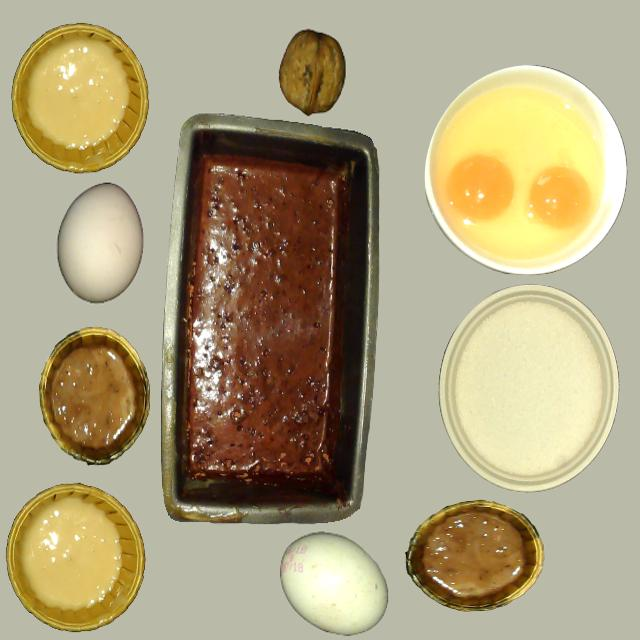Egg: (446, 154, 515, 223), (528, 166, 591, 230)
Sugar: (439, 286, 616, 492)
Walnut: (280, 30, 346, 116)
